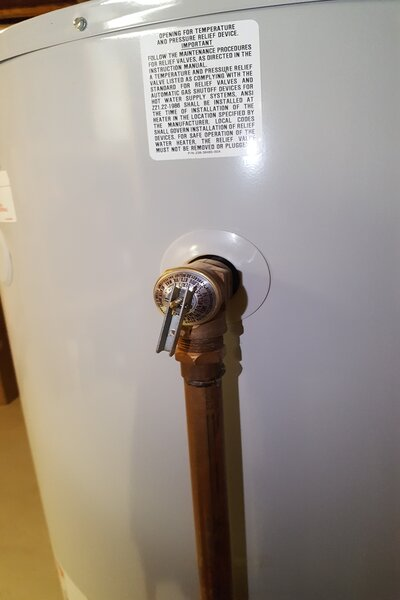valve: (150, 254, 237, 393)
